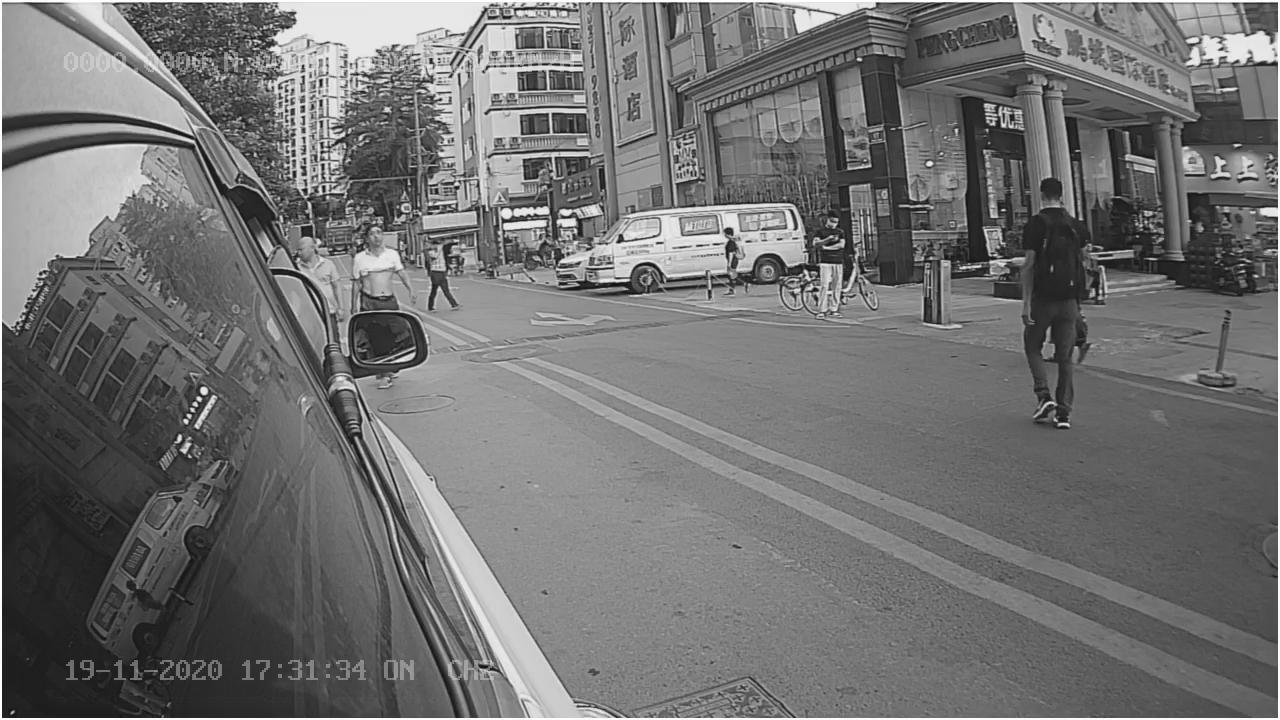person: (1019, 176, 1083, 424)
